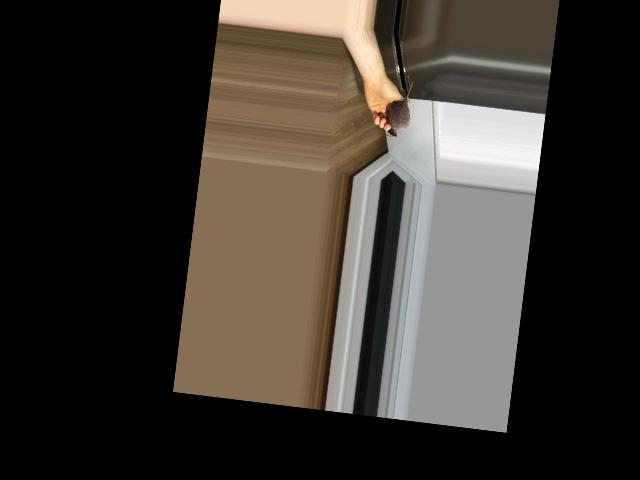beet: (384, 79, 414, 139)
